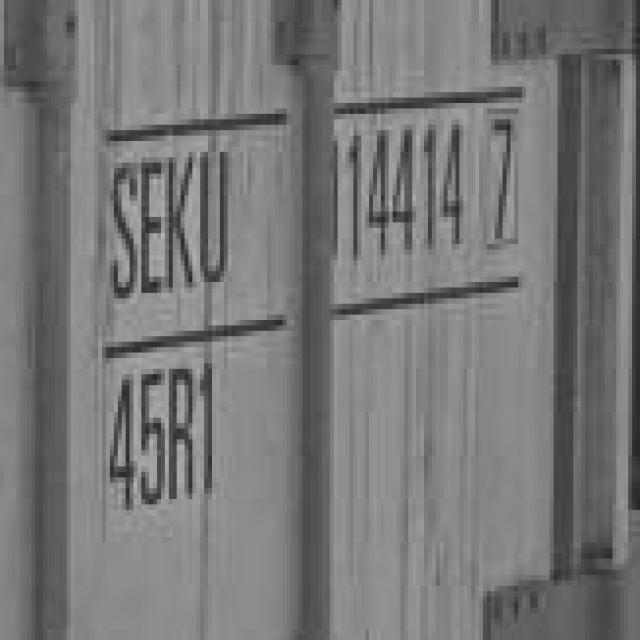dv: (482, 105, 524, 258)
owner: (96, 137, 245, 308)
serial: (316, 105, 470, 271)
size: (93, 354, 232, 521)
